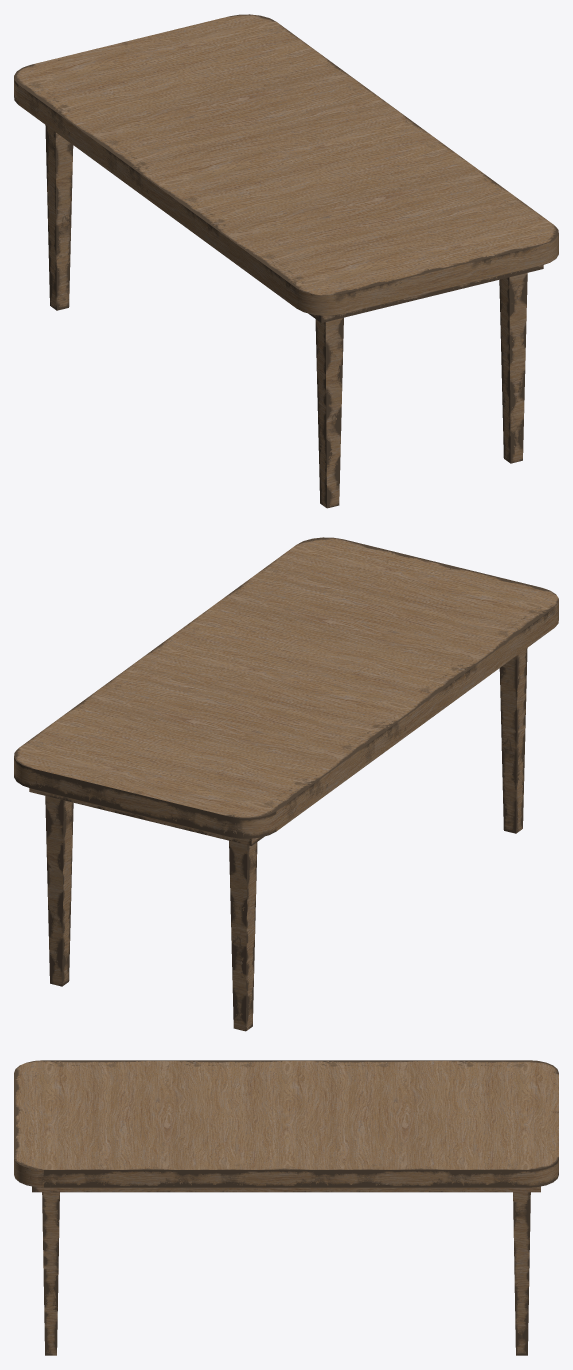
The model's file is table.fbx.
3 renders of one model, top to bottom at view 1: azimuth 30°, elevation 25°; view 2: azimuth 150°, elevation 25°; view 3: azimuth 270°, elevation 25°, orthographic. The views are drawn at different scales.
Visible parts, largest first — view 1: table; view 2: table; view 3: table.
Boxes of the visible parts, x1,y1,x2,y2 form: table: (14,14,558,508); table: (14,537,558,1031); table: (14,1060,558,1355).
Size of the model in its own units: 200 by 169 by 420.
